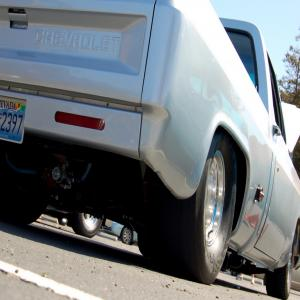Vehicle-registration-plate: (3, 94, 23, 141)
